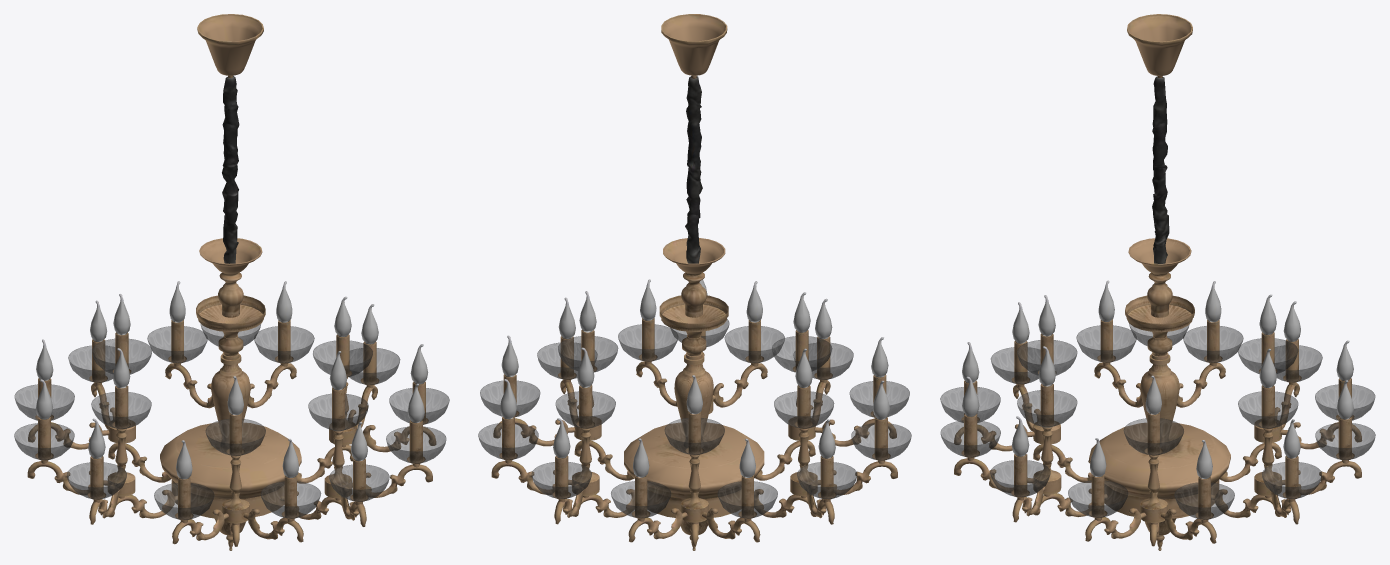
File: light-chandelier-3.glb
3 renders of one model, left to right at view 1: azimuth 30°, elevation 25°; view 2: azimuth 150°, elevation 25°; view 3: azimuth 270°, elevation 25°, orthographic.
Parts seen in each view (by area): view 1: Chandelier_03; view 2: Chandelier_03; view 3: Chandelier_03.
Part boxes in pixels (x1,y1,x2,y2): Chandelier_03: [14, 14, 449, 550]; Chandelier_03: [478, 14, 911, 550]; Chandelier_03: [940, 14, 1375, 550].
Bounding box in the file's own units: 0.7804 × 1.04 × 0.7855.
Materials: 2 (2 with a texture image).
